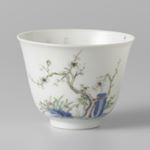cups: (16, 26, 137, 134)
